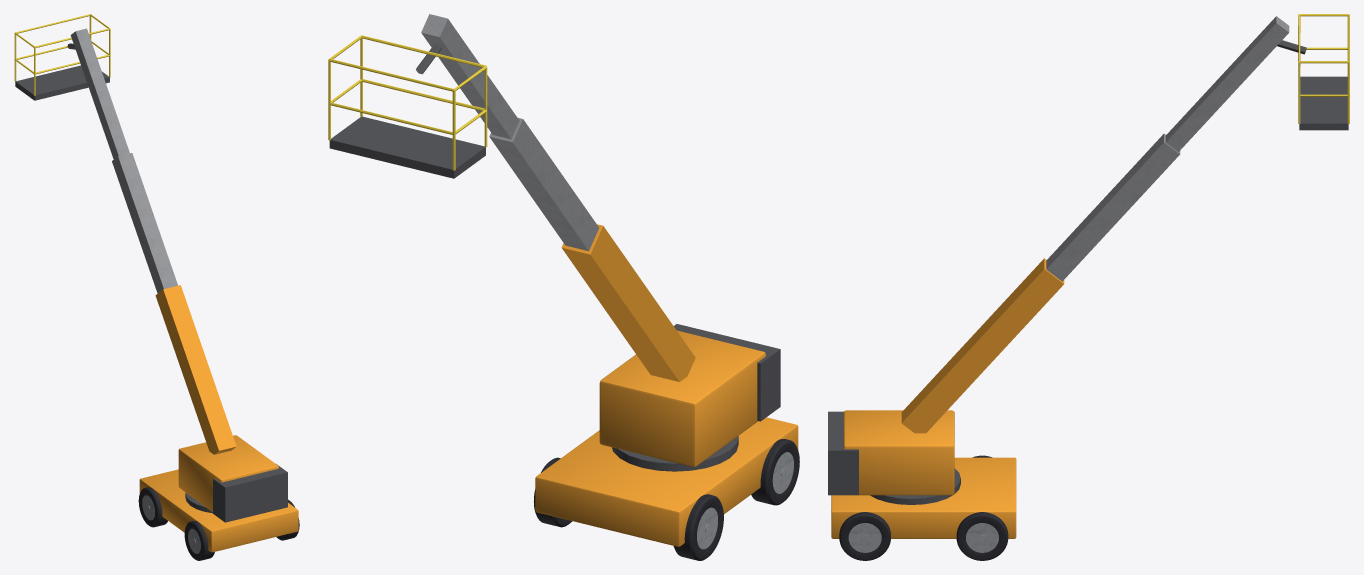
The model's file is lift_boom_orange.gltf.
The picture shows the model from 3 angles, left to right: view 1: azimuth 30°, elevation 25°; view 2: azimuth 150°, elevation 25°; view 3: azimuth 270°, elevation 25°; orthographic projection. The views are drawn at different scales.
Visible parts, largest first — view 1: lift_boom_orange; view 2: lift_boom_orange; view 3: lift_boom_orange.
Part boxes in pixels (<box>): lift_boom_orange: <box>14,14,299,560</box>; lift_boom_orange: <box>328,14,799,560</box>; lift_boom_orange: <box>828,14,1349,560</box>.
Bounding box in the file's own units: 2.31 × 9.16 × 8.45.
8 materials, 5 textured.
